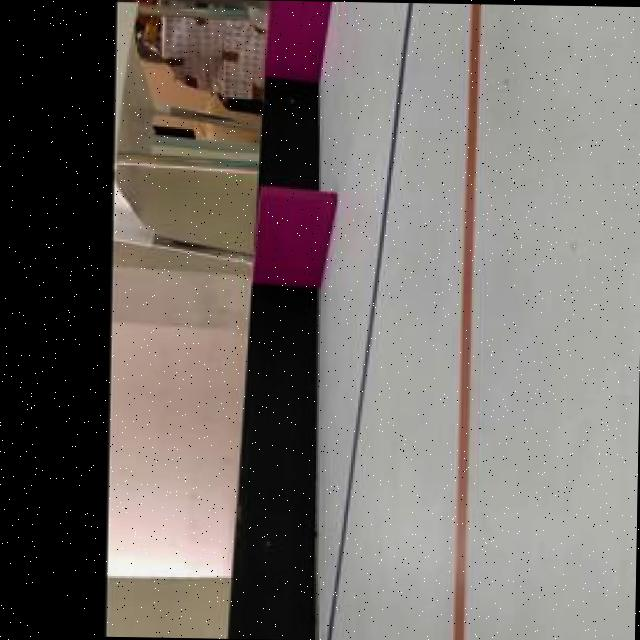xparking: (254, 189, 328, 281), (266, 0, 318, 73)
